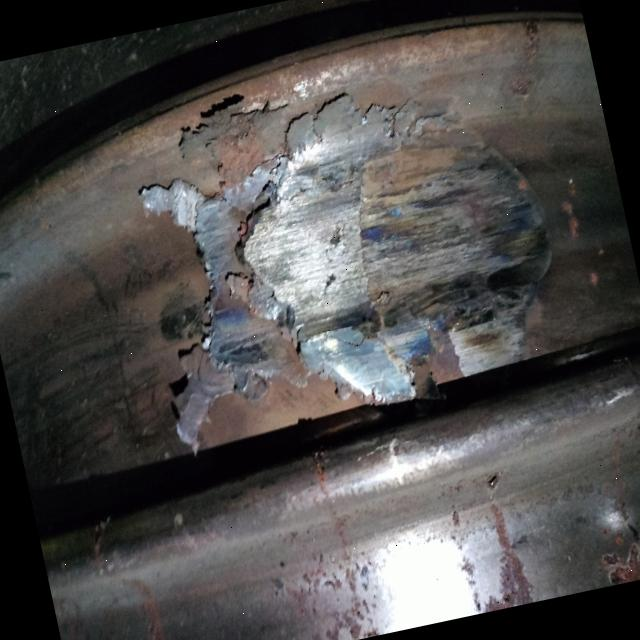Blue hole: (475, 458, 510, 497)
Rollerpile: (80, 40, 619, 463)
flat: (278, 111, 563, 383)
